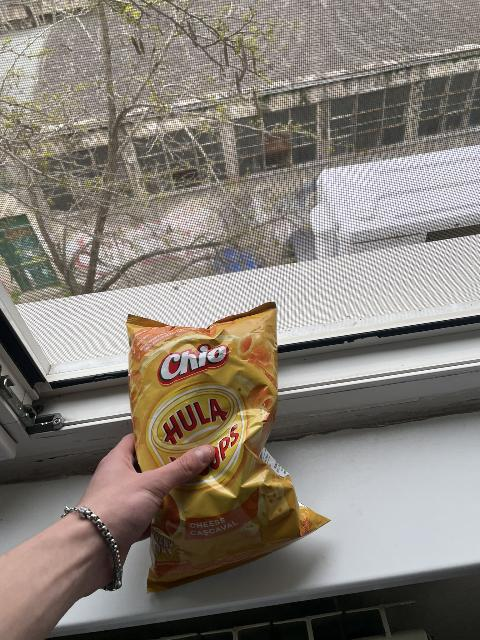Chio Hula Hoops Cheese 70g: (125, 300, 331, 591)
